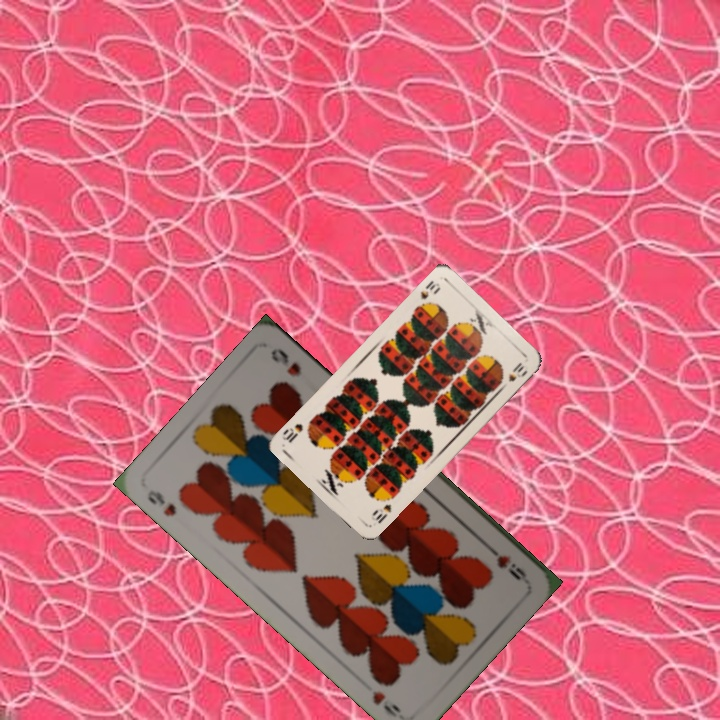H9: (481, 540, 530, 584), (143, 486, 179, 519)
S10: (413, 276, 443, 310), (371, 500, 394, 526)
